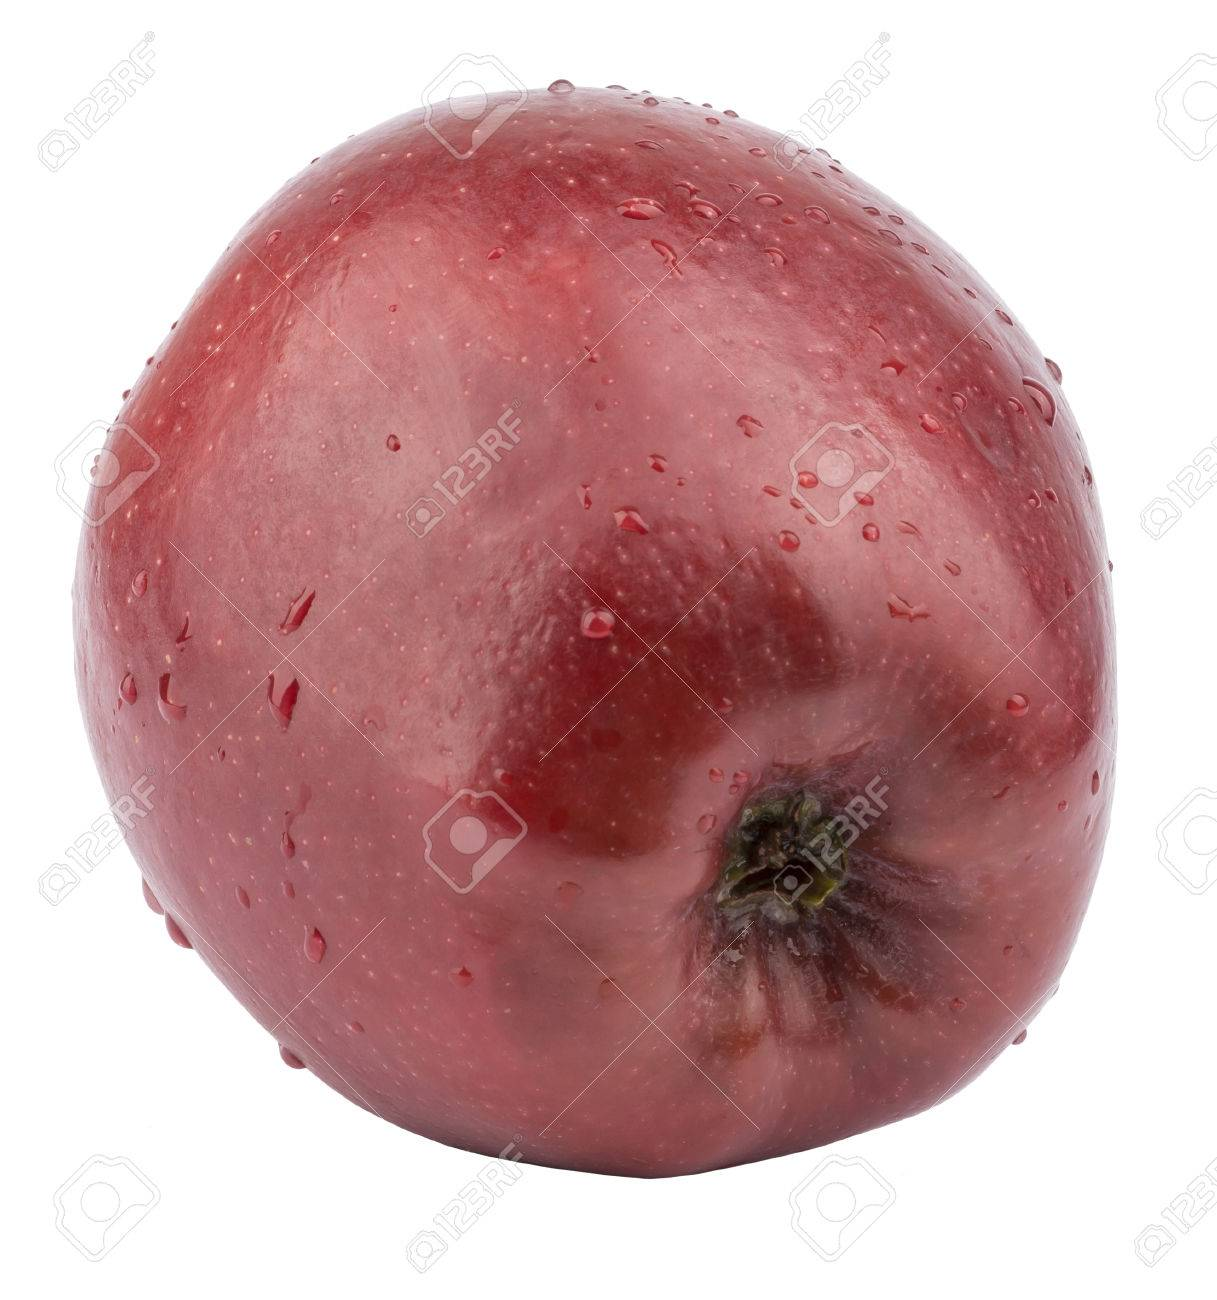apple/: (27, 66, 1190, 1196)
